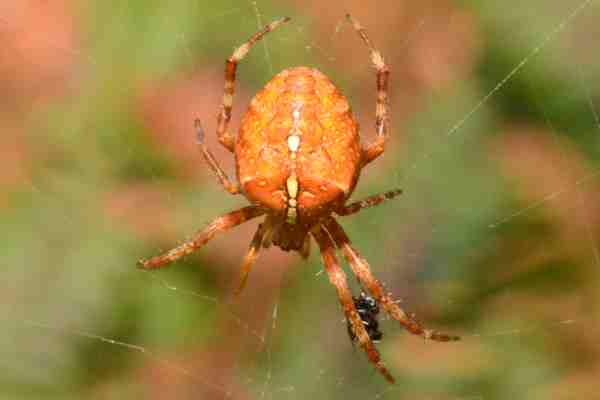spider: (122, 4, 492, 384)
